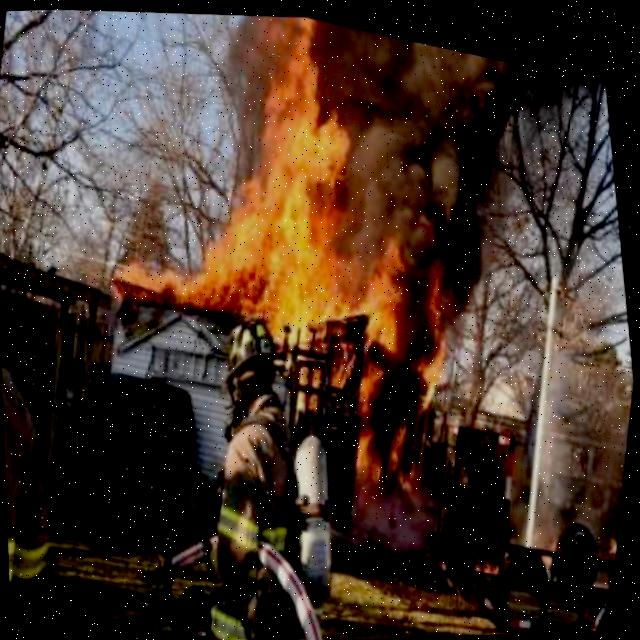fire: (208, 5, 395, 331), (113, 193, 250, 317), (339, 440, 464, 563), (340, 226, 424, 390), (401, 269, 483, 419)
